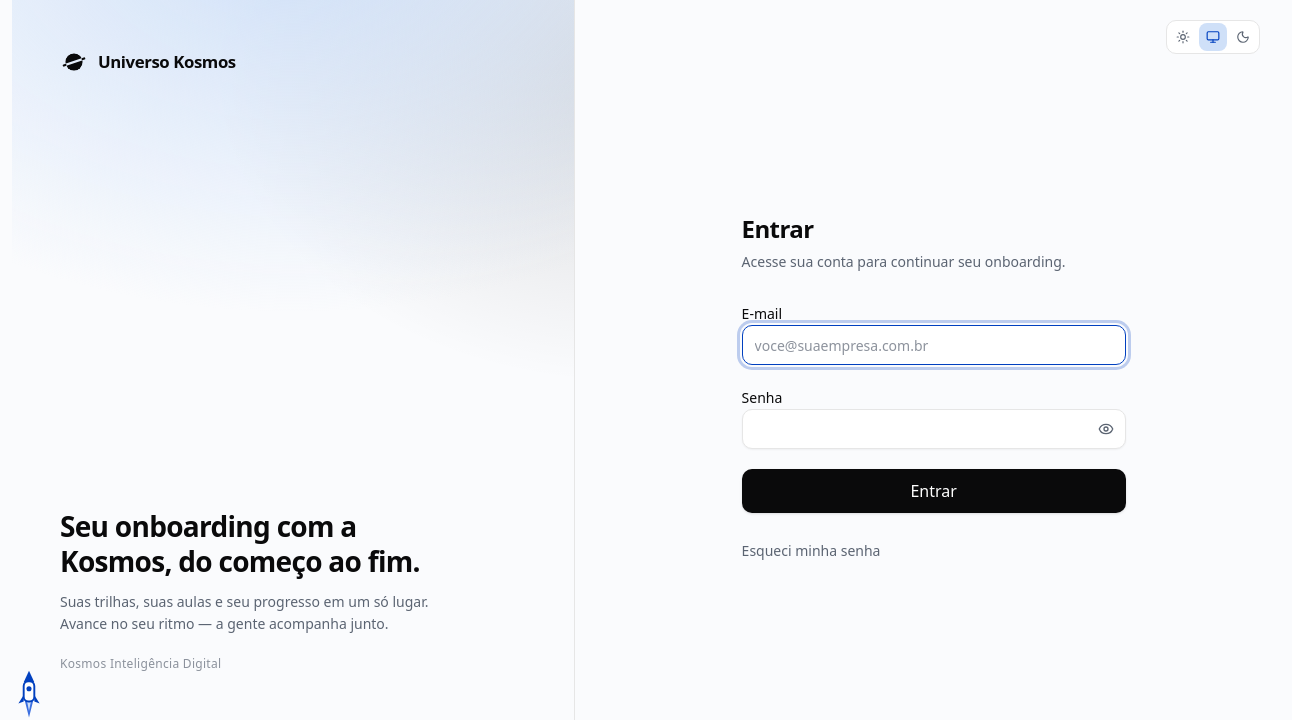
LoginPage › shows a Portuguese message when the credentials are rejected
Type "ze@padaria.com.br" into the field labelled "E-mail" at coordinates (934, 345), box left=742, top=325, right=1126, bottom=365
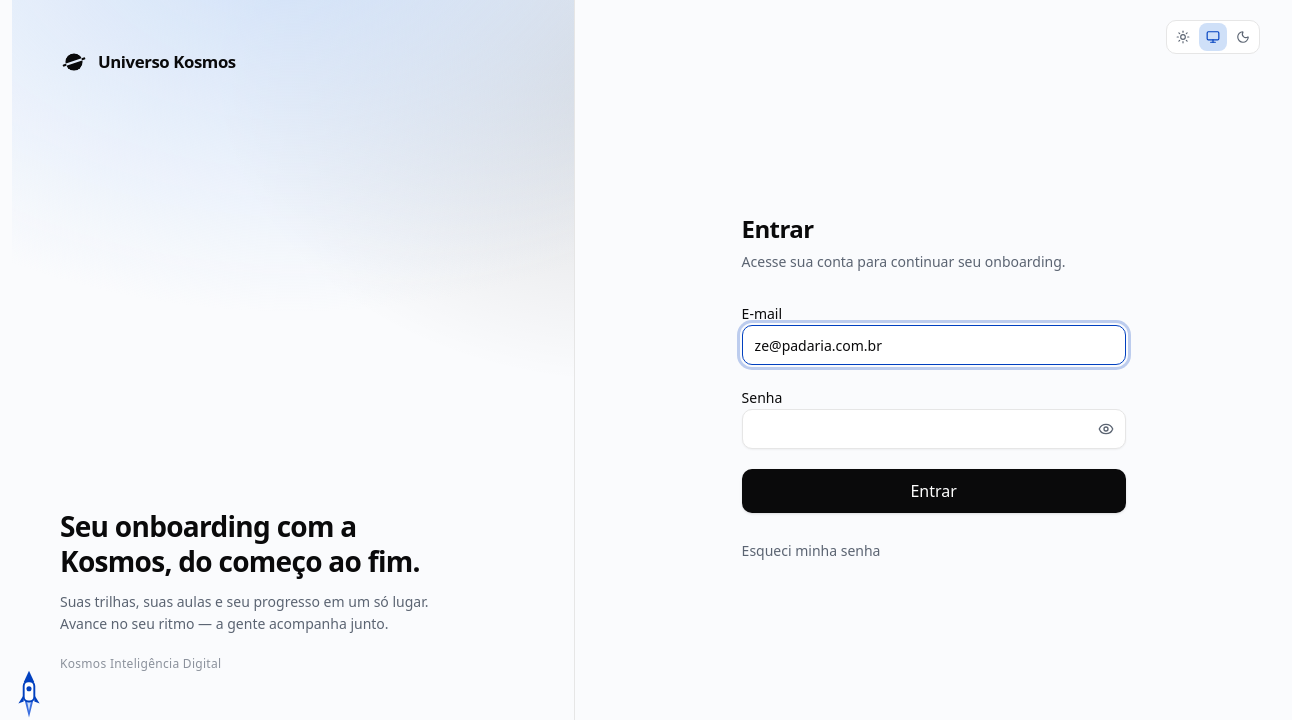
Type "errada" into the password field labelled "Senha" at coordinates (934, 429), box left=742, top=409, right=1126, bottom=449
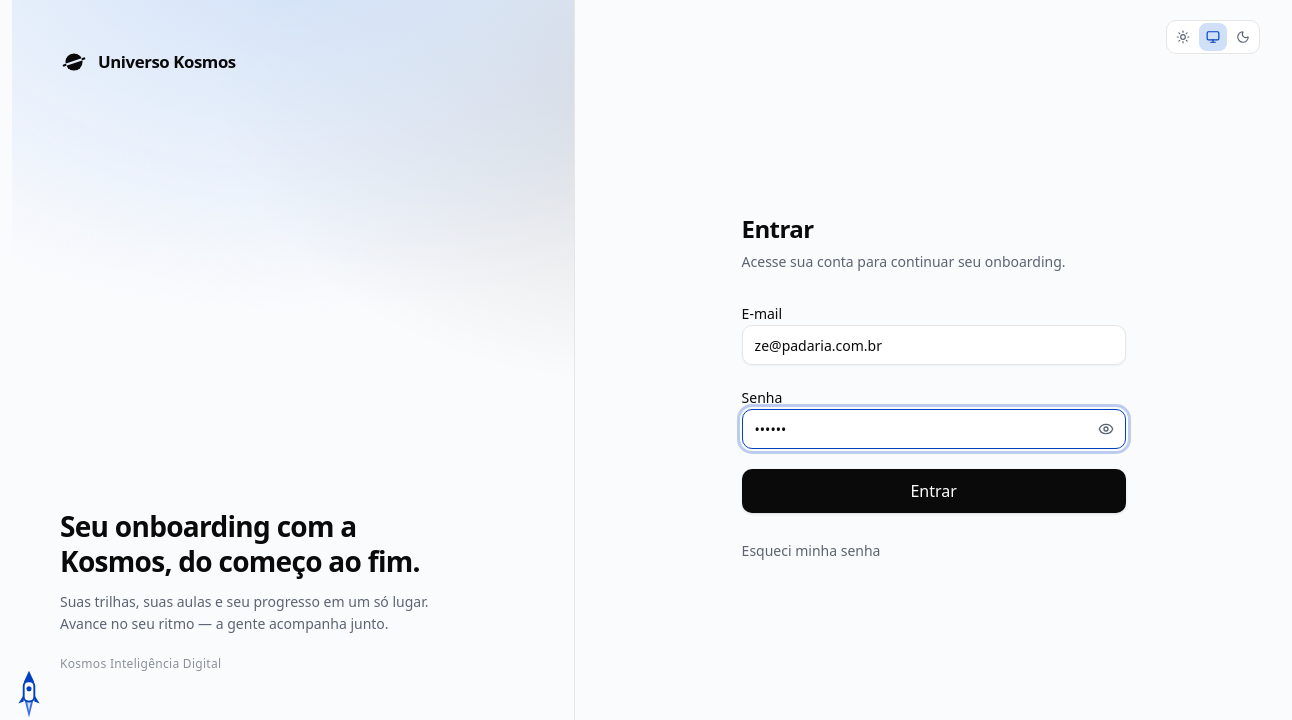
Click the button "Entrar" at coordinates (934, 491), box left=742, top=469, right=1126, bottom=513
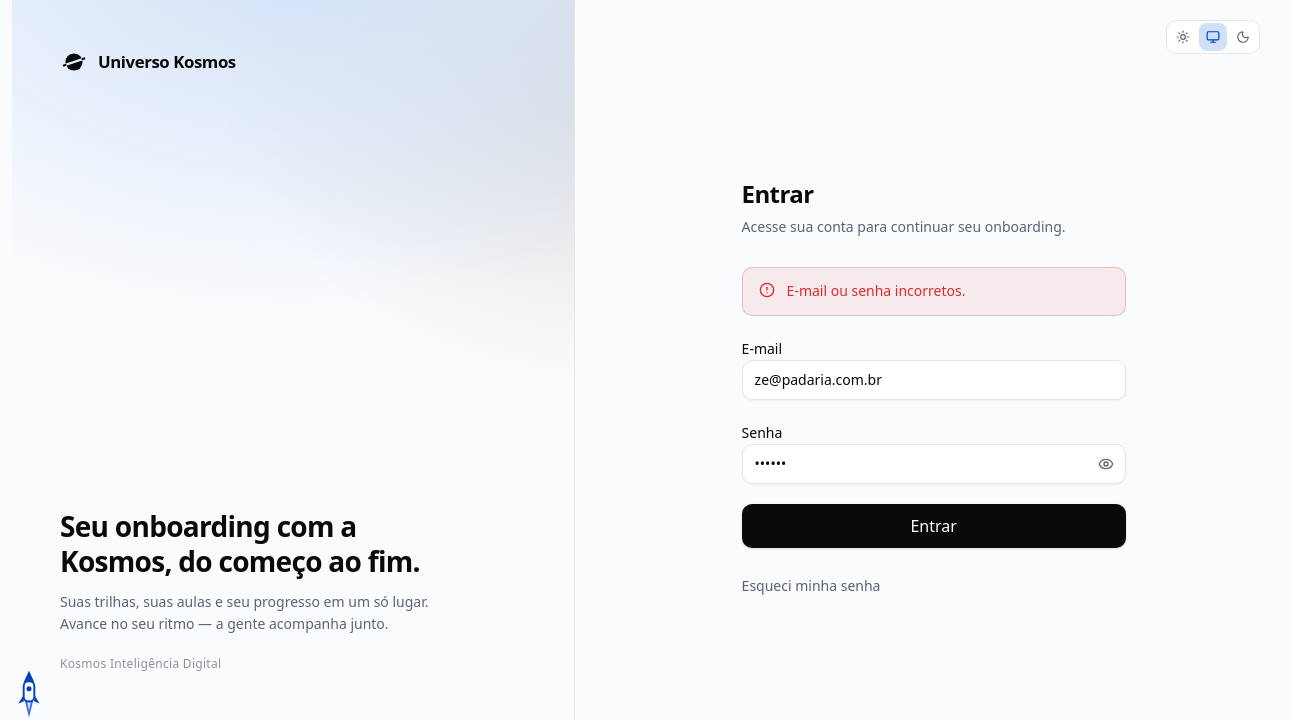
expect the message reads "E-mail ou senha incorretos.": met, box left=787, top=281, right=966, bottom=300
